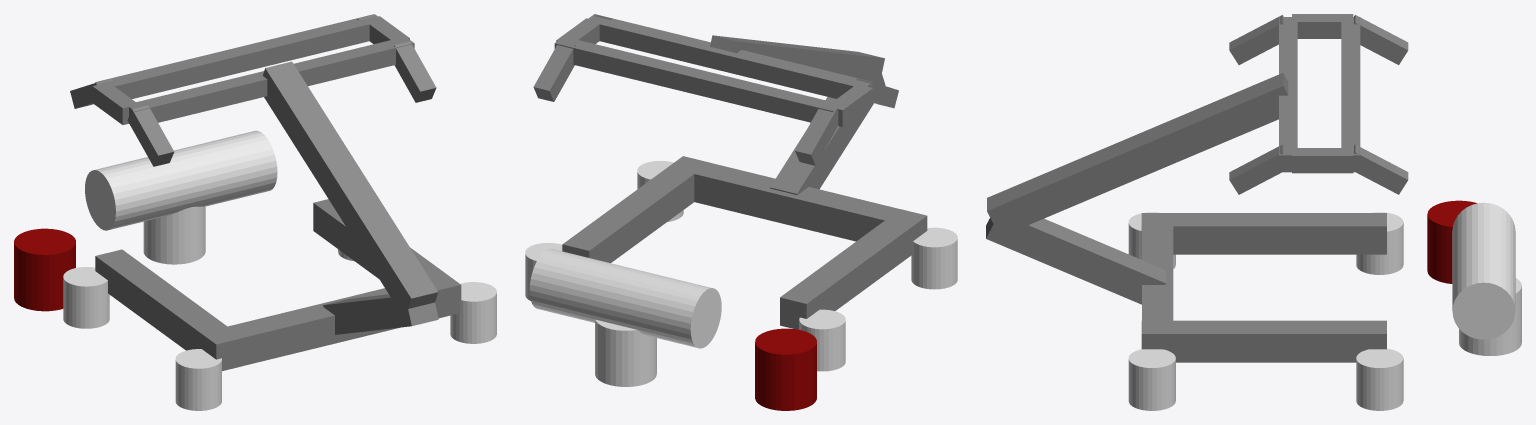
File: pantograph-coloured.dae
3 renders of one model, left to right at view 1: azimuth 30°, elevation 25°; view 2: azimuth 150°, elevation 25°; view 3: azimuth 270°, elevation 25°, orthographic.
Parts seen in each view (by area): view 1: Cube_045, Cylinder_006, Cube_030, Cube_047, Cube_046, Cube_031, Cylinder_012, Cube_044, Cylinder_007, Cube_029, Cylinder_015, Cylinder_016 (+6 smaller); view 2: Cylinder_006, Cube_031, Cube_030, Cube_047, Cube_046, Cube_029, Cylinder_012, Cylinder_007, Cube_045, Cube_044, Cylinder_015, Cylinder_016 (+7 smaller); view 3: Cube_045, Cube_029, Cube_030, Cylinder_006, Cube_044, Cube_047, Cylinder_014, Cylinder_013, Cube_031, Cube_046, Cylinder_012, Cylinder_016 (+8 smaller).
Boxes of the visible parts, x1,y1,x2,y2 form: Cube_045: [263, 61, 438, 315]; Cylinder_006: [85, 130, 277, 230]; Cube_030: [95, 249, 243, 371]; Cube_047: [95, 14, 383, 98]; Cube_046: [127, 36, 414, 123]; Cube_031: [222, 278, 445, 365]; Cylinder_012: [14, 228, 75, 311]; Cube_044: [323, 294, 438, 334]; Cylinder_007: [143, 206, 205, 264]; Cube_029: [313, 199, 461, 318]; Cylinder_015: [175, 349, 221, 410]; Cylinder_016: [63, 267, 109, 328]; Cylinder_006: [529, 248, 721, 348]; Cube_031: [683, 159, 905, 241]; Cube_030: [780, 209, 927, 329]; Cube_047: [554, 36, 842, 122]; Cube_046: [585, 14, 872, 98]; Cube_029: [562, 156, 706, 263]; Cylinder_012: [755, 328, 816, 410]; Cylinder_007: [595, 319, 656, 386]; Cube_045: [710, 35, 884, 83]; Cube_044: [770, 65, 885, 194]; Cylinder_015: [911, 227, 957, 289]; Cylinder_016: [799, 309, 845, 371]; Cube_045: [987, 73, 1288, 236]; Cube_029: [1141, 320, 1386, 362]; Cube_030: [1141, 213, 1386, 254]; Cylinder_006: [1452, 202, 1515, 339]; Cube_044: [986, 213, 1165, 304]; Cube_047: [1341, 17, 1360, 172]; Cylinder_014: [1128, 349, 1175, 410]; Cylinder_013: [1356, 348, 1403, 410]; Cube_031: [1142, 223, 1173, 320]; Cube_046: [1279, 17, 1297, 172]; Cylinder_012: [1427, 200, 1476, 283]; Cylinder_016: [1356, 212, 1403, 274].
Size of the model in its own units: 1.2 by 1.7 by 0.9261.
